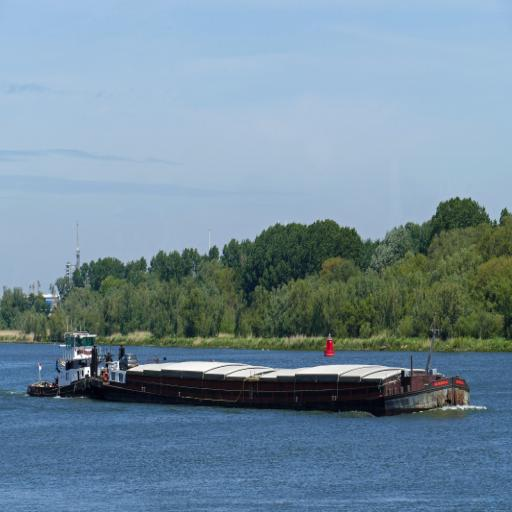tugboat: (25, 318, 134, 409)
